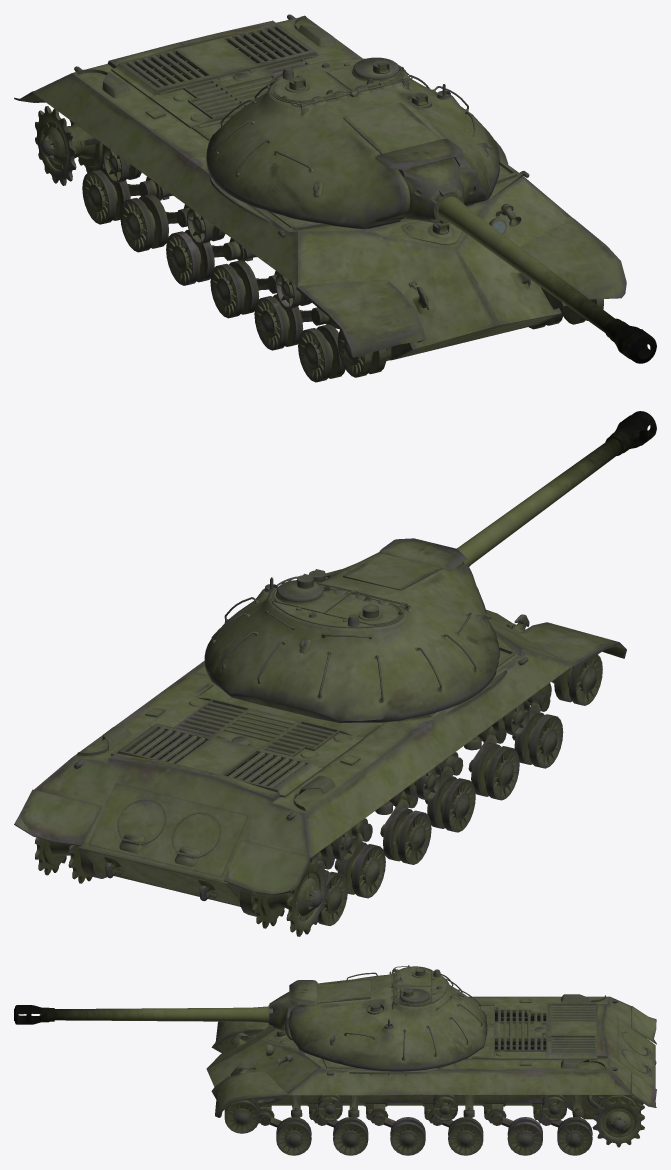
3 views of the same model, one above another, from view 1: azimuth 30°, elevation 25°; view 2: azimuth 150°, elevation 25°; view 3: azimuth 270°, elevation 25° (orthographic). The views are drawn at different scales.
Parts seen in each view (by area): view 1: Wanne, turret, cannon, radL0, radL4, radL6, radL2, radL5, radL3, radL1, rollL1, rollL2 (+1 smaller); view 2: Wanne, turret, cannon, radL0, radL3, radL5, radR0, radL6, radL4, radL2, radL1, rollL2 (+2 smaller); view 3: Wanne, turret, cannon, radR0, radR4, radR1, radR3, radR6, radR2, radR5, rollR3, rollR2 (+1 smaller).
Boxes of the visible parts, left/top/right/bottom form: Wanne: left=14, top=14, right=626, bottom=381; turret: left=206, top=57, right=500, bottom=228; cannon: left=408, top=157, right=656, bottom=363; radL0: left=35, top=106, right=106, bottom=185; radL4: left=210, top=262, right=259, bottom=318; radL6: left=298, top=326, right=339, bottom=382; radL2: left=120, top=196, right=168, bottom=252; radL5: left=254, top=294, right=302, bottom=350; radL3: left=166, top=229, right=214, bottom=285; radL1: left=82, top=168, right=131, bottom=224; rollL1: left=103, top=147, right=141, bottom=183; rollL2: left=187, top=208, right=225, bottom=244; Wanne: left=14, top=609, right=626, bottom=936; turret: left=204, top=538, right=499, bottom=723; cannon: left=457, top=411, right=656, bottom=566; radL0: left=239, top=857, right=327, bottom=936; radL3: left=380, top=808, right=431, bottom=864; radL5: left=468, top=744, right=519, bottom=800; radR0: left=35, top=838, right=106, bottom=883; radL6: left=512, top=712, right=563, bottom=768; radL4: left=425, top=776, right=475, bottom=832; radL2: left=334, top=842, right=385, bottom=898; radL1: left=321, top=870, right=347, bottom=925; rollL2: left=403, top=764, right=441, bottom=800; Wanne: left=206, top=994, right=656, bottom=1141; turret: left=269, top=965, right=487, bottom=1071; cannon: left=14, top=1005, right=287, bottom=1027; radR0: left=592, top=1095, right=644, bottom=1147; radR4: left=390, top=1119, right=425, bottom=1155; radR1: left=557, top=1119, right=592, bottom=1155; radR3: left=448, top=1119, right=483, bottom=1155; radR6: left=276, top=1119, right=311, bottom=1155; radR2: left=507, top=1119, right=542, bottom=1155; radR5: left=333, top=1119, right=368, bottom=1155; rollR3: left=317, top=1095, right=342, bottom=1121; rollR2: left=432, top=1095, right=457, bottom=1121.
Size of the model in its own units: 3.22 by 2.37 by 9.82.
Materials: 1 (1 with a texture image).
